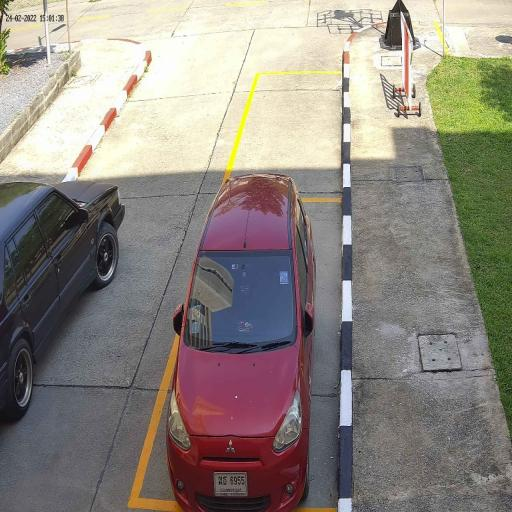car: (165, 173, 318, 512), (0, 180, 127, 424)
